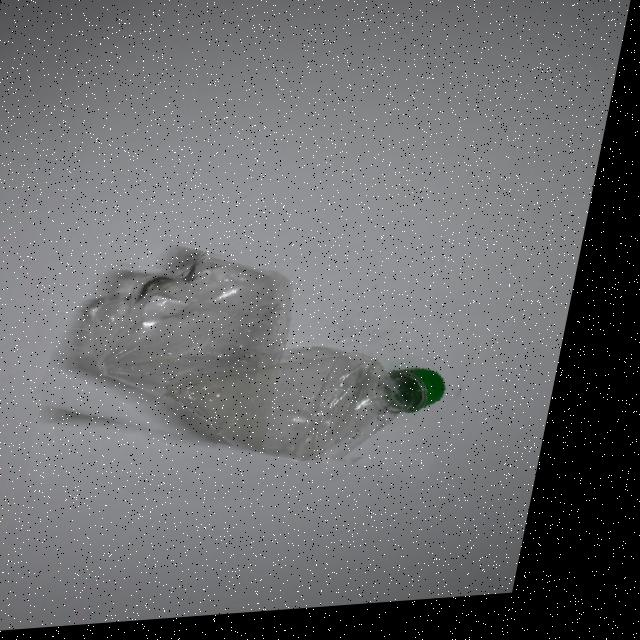litter: (44, 237, 523, 484), (435, 318, 502, 374)
